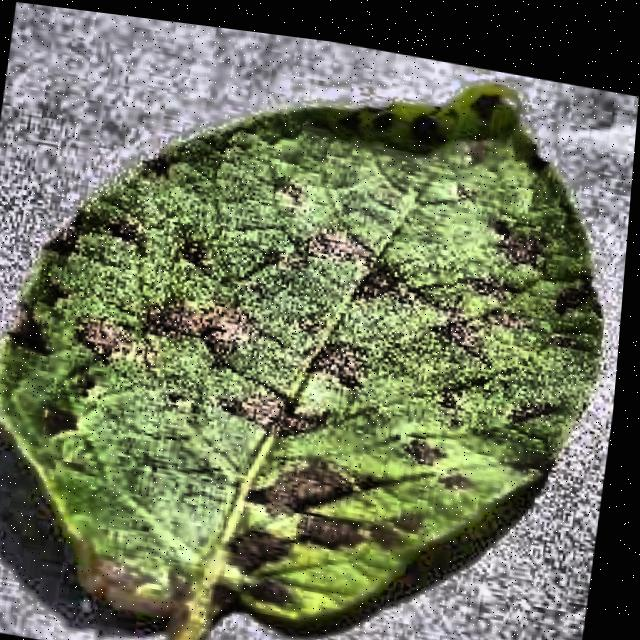Potato_leaf_early_blight: (0, 84, 601, 640)
